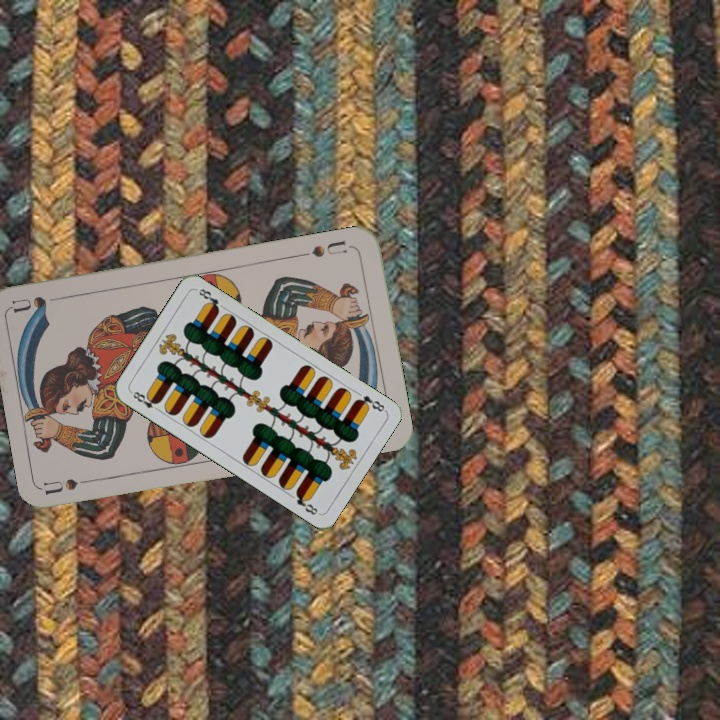E8: (127, 387, 163, 415), (352, 391, 387, 415)
SU: (42, 473, 101, 497), (296, 236, 350, 260)
